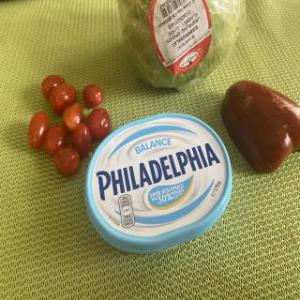cabbage: (109, 0, 253, 102)
tomato: (48, 81, 78, 115), (86, 106, 112, 144), (41, 124, 68, 160), (27, 110, 50, 152), (54, 148, 82, 178), (71, 123, 93, 159), (61, 100, 83, 134), (40, 74, 66, 102), (81, 81, 103, 108)
